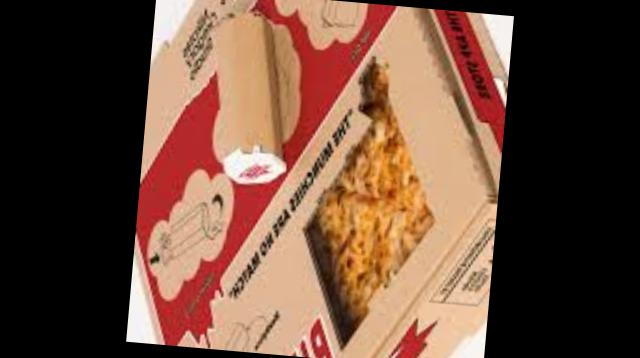cardboard paper: (134, 0, 504, 358)
